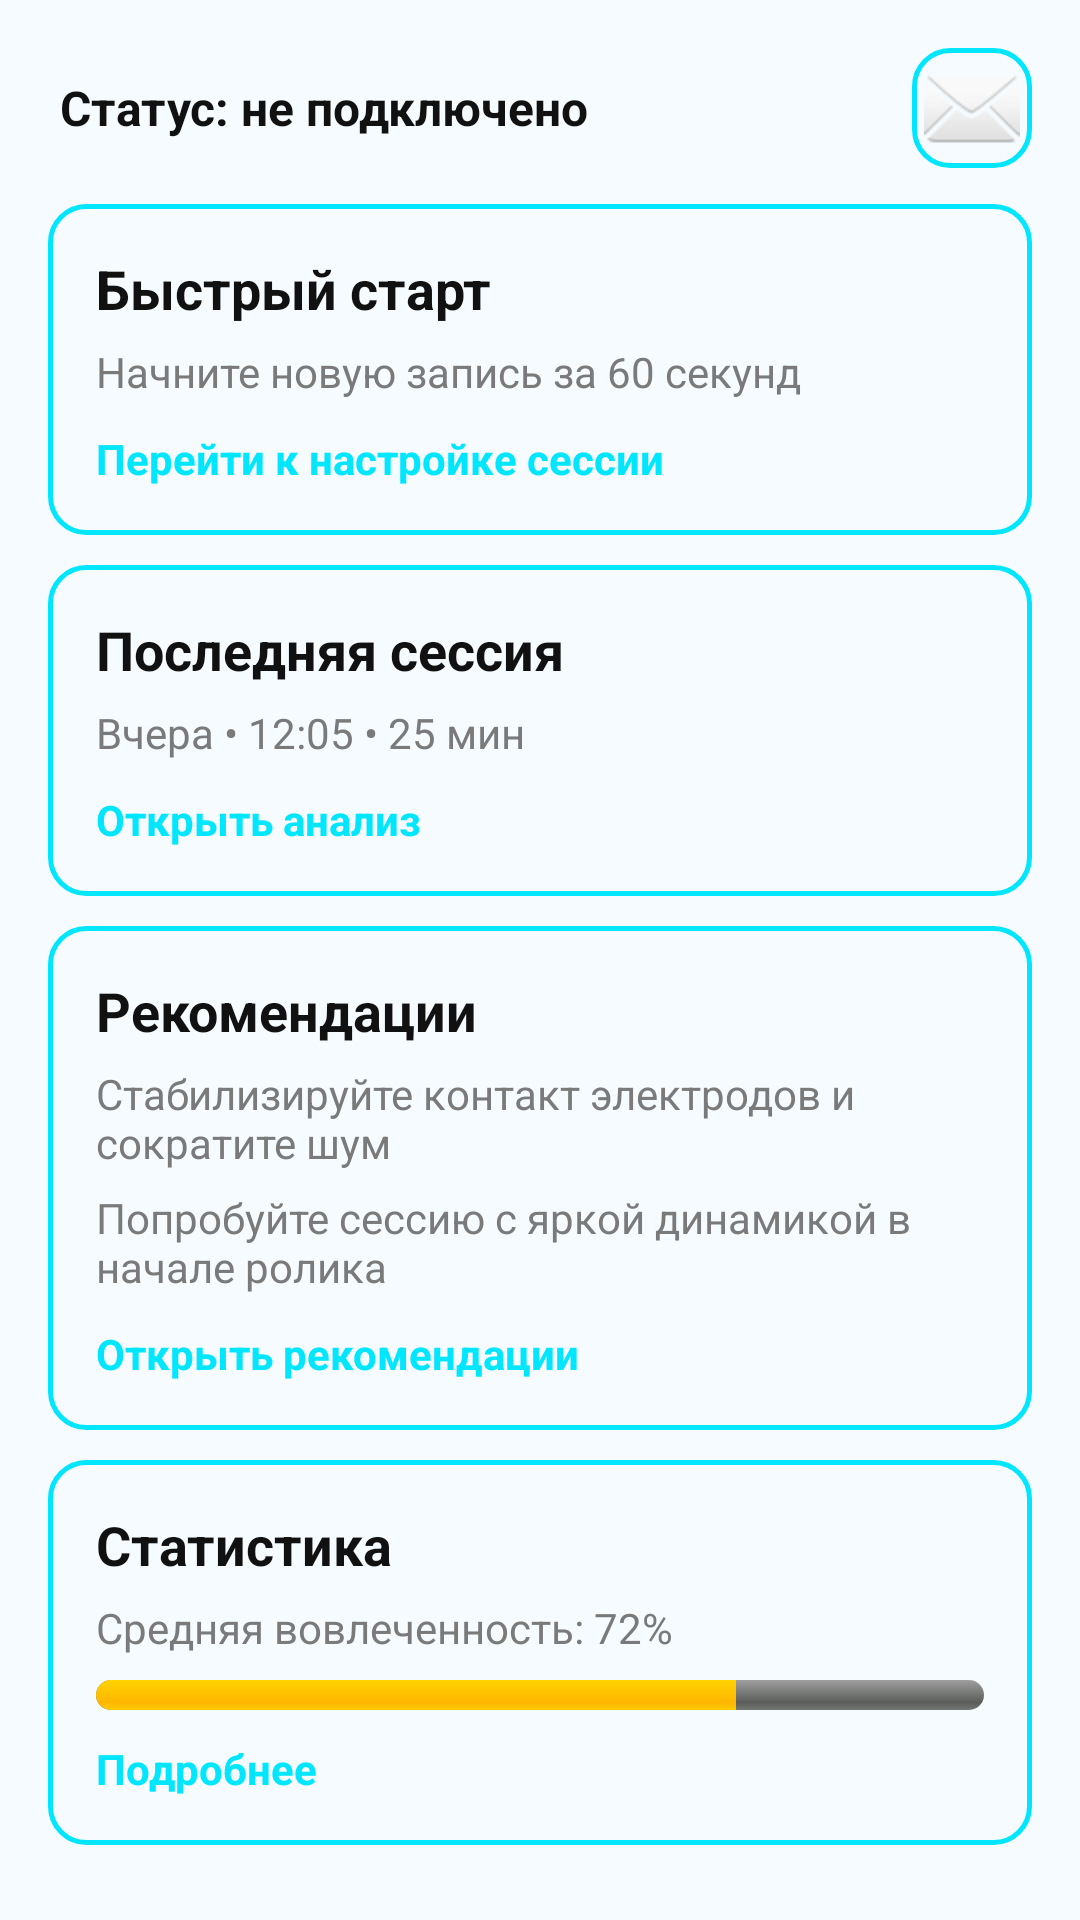

Where to tap for icons on this 1080 × 1920 app screen, as [x,y]:
Уведомления: [972,108]
